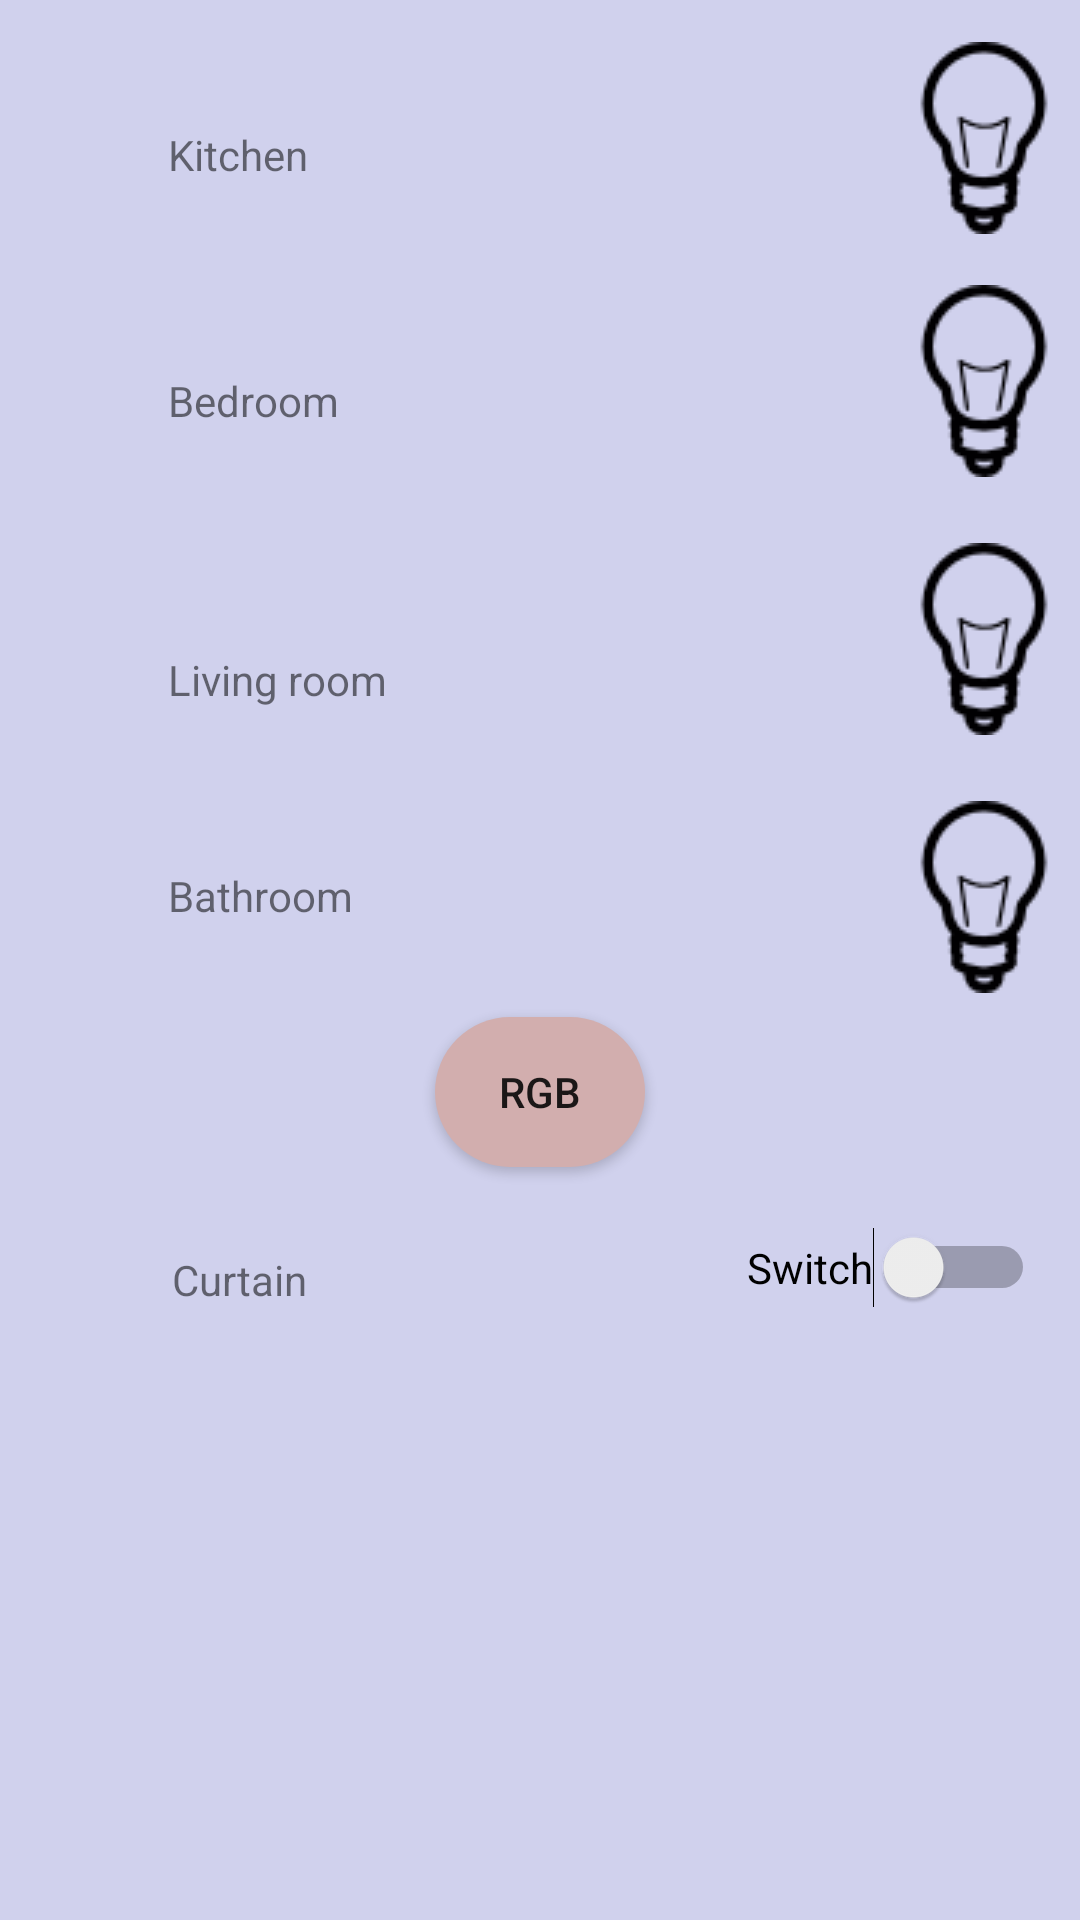

Screen size 1080x1920. Icon name, then its center in pixels as point (x, y):
lamp: point (984, 138), point (984, 381), point (984, 639), point (984, 897)
